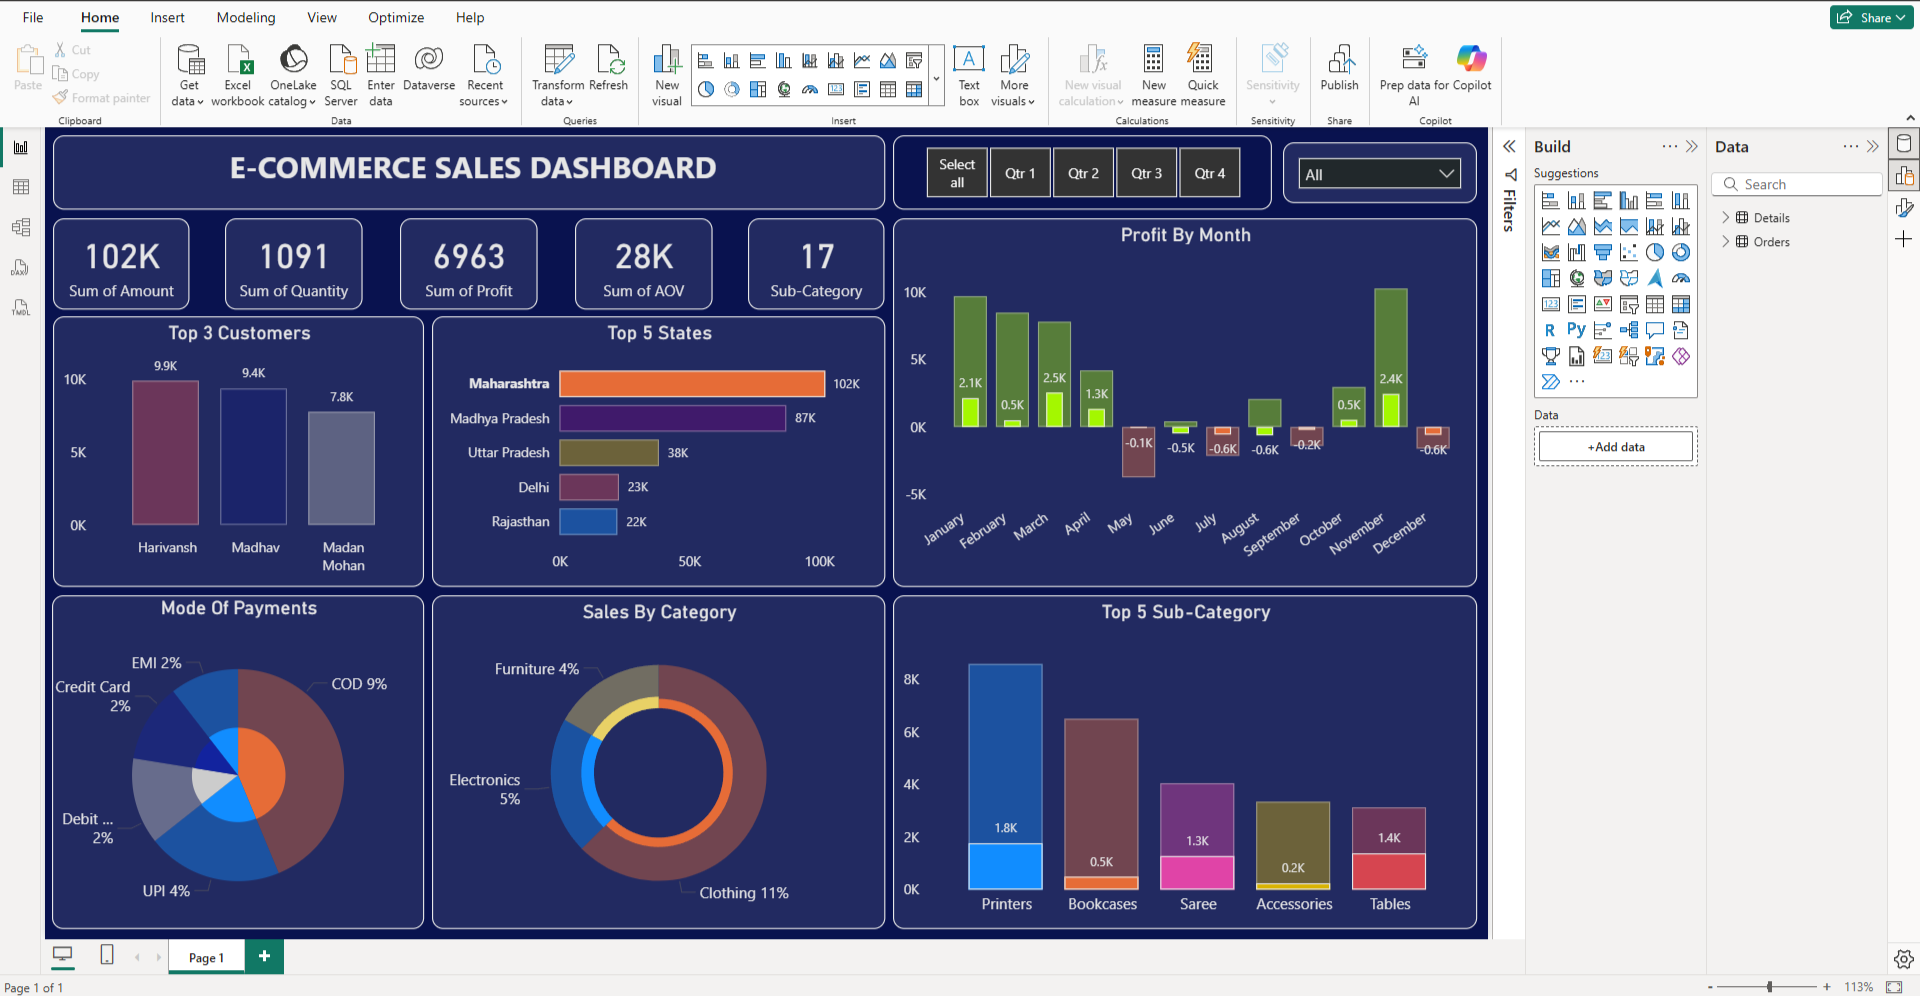

The page's visual inventory and layout, read from the dashboard file:
{"tool":"powerbi","page":{"name":"Page 1","canvas":[1280,720],"ordinal":0},"visuals":[{"type":"columnChart","title":"Profit By Month","fields":{"Y":["Details.Profit"],"Category":["Orders.Order Date.Variation.Date Hierarchy.Month"]},"box":[752,81,518,327],"z":0},{"type":"columnChart","title":"Top 5 Sub-Category","fields":{"Category":["Details.Sub-Category"],"Y":["Details.Profit"]},"box":[752,415,518,296],"z":1000},{"type":"donutChart","title":"Sales By Category","fields":{"Category":["Details.Category"],"Y":["Details.Quantity"]},"box":[343,415,402,296],"z":2000},{"type":"pieChart","title":"Mode Of Payments","fields":{"Y":["Details.Quantity"],"Category":["Details.PaymentMode"]},"box":[6,415,330,296],"z":3000},{"type":"card","fields":{"Values":["Details.Amount"]},"box":[7.1,80.7,121.5,80.7],"z":4000},{"type":"card","fields":{"Values":["Details.Quantity"]},"box":[159.6,80.7,122.4,80.7],"z":5000},{"type":"card","fields":{"Values":["Details.Profit"]},"box":[314.8,80.7,122.4,80.7],"z":6000},{"type":"card","fields":{"Values":["Details.Average_Order_Value"]},"box":[470,80.7,122.4,80.7],"z":7000},{"type":"barChart","title":"Top 5 States","fields":{"Category":["Orders.State"],"Y":["Details.Amount"]},"box":[343,168,402,240],"z":8000},{"type":"columnChart","title":"Top 3 Customers","fields":{"Category":["Orders.CustomerName"],"Y":["Details.Amount"]},"box":[7,168,329,240],"z":9000},{"type":"slicer","fields":{"Values":["Orders.Order Date.Variation.Date Hierarchy.Quarter"]},"box":[752,7,336,66],"z":10000},{"type":"slicer","fields":{"Values":["Orders.State"]},"box":[1098,13,172,54],"z":11000},{"type":"textbox","box":[7.1,7.1,737.7,65.6],"z":12000},{"type":"card","fields":{"Values":["Details.Sub-Category"]},"box":[623.3,80.7,121.5,80.7],"z":13000}]}

Visuals, with their boxes on the page's 1280x720 design canvas (x1, y1, x2, y2). These are canvas units, not pixel positions in the 1920x996 screenshot, which may show the page scaled, cropped or inside an application window:
"Profit By Month" columnChart: select_region(752, 81, 1270, 408)
"Top 5 Sub-Category" columnChart: select_region(752, 415, 1270, 711)
"Sales By Category" donutChart: select_region(343, 415, 745, 711)
"Mode Of Payments" pieChart: select_region(6, 415, 336, 711)
card - Details.Amount: select_region(7, 81, 129, 161)
card - Details.Quantity: select_region(160, 81, 282, 161)
card - Details.Profit: select_region(315, 81, 437, 161)
card - Details.Average_Order_Value: select_region(470, 81, 592, 161)
"Top 5 States" barChart: select_region(343, 168, 745, 408)
"Top 3 Customers" columnChart: select_region(7, 168, 336, 408)
slicer - Orders.Order Date.Variation.Date Hierarchy.Quarter: select_region(752, 7, 1088, 73)
slicer - Orders.State: select_region(1098, 13, 1270, 67)
textbox: select_region(7, 7, 745, 73)
card - Details.Sub-Category: select_region(623, 81, 745, 161)
